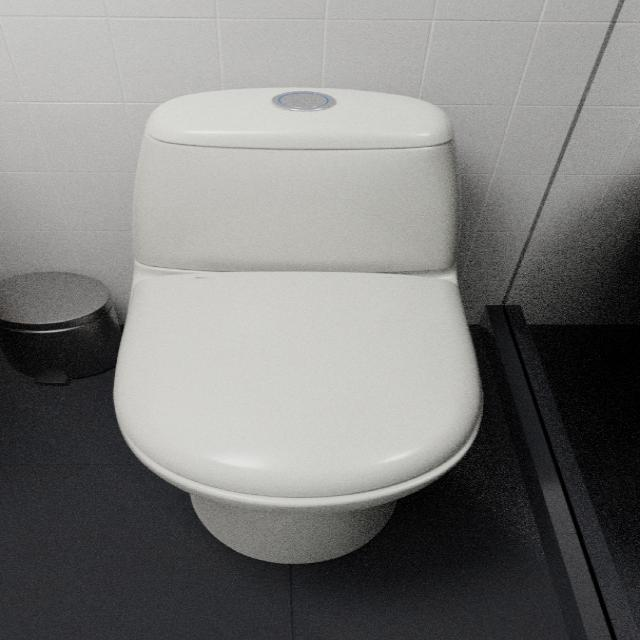toilet: (102, 81, 496, 572)
